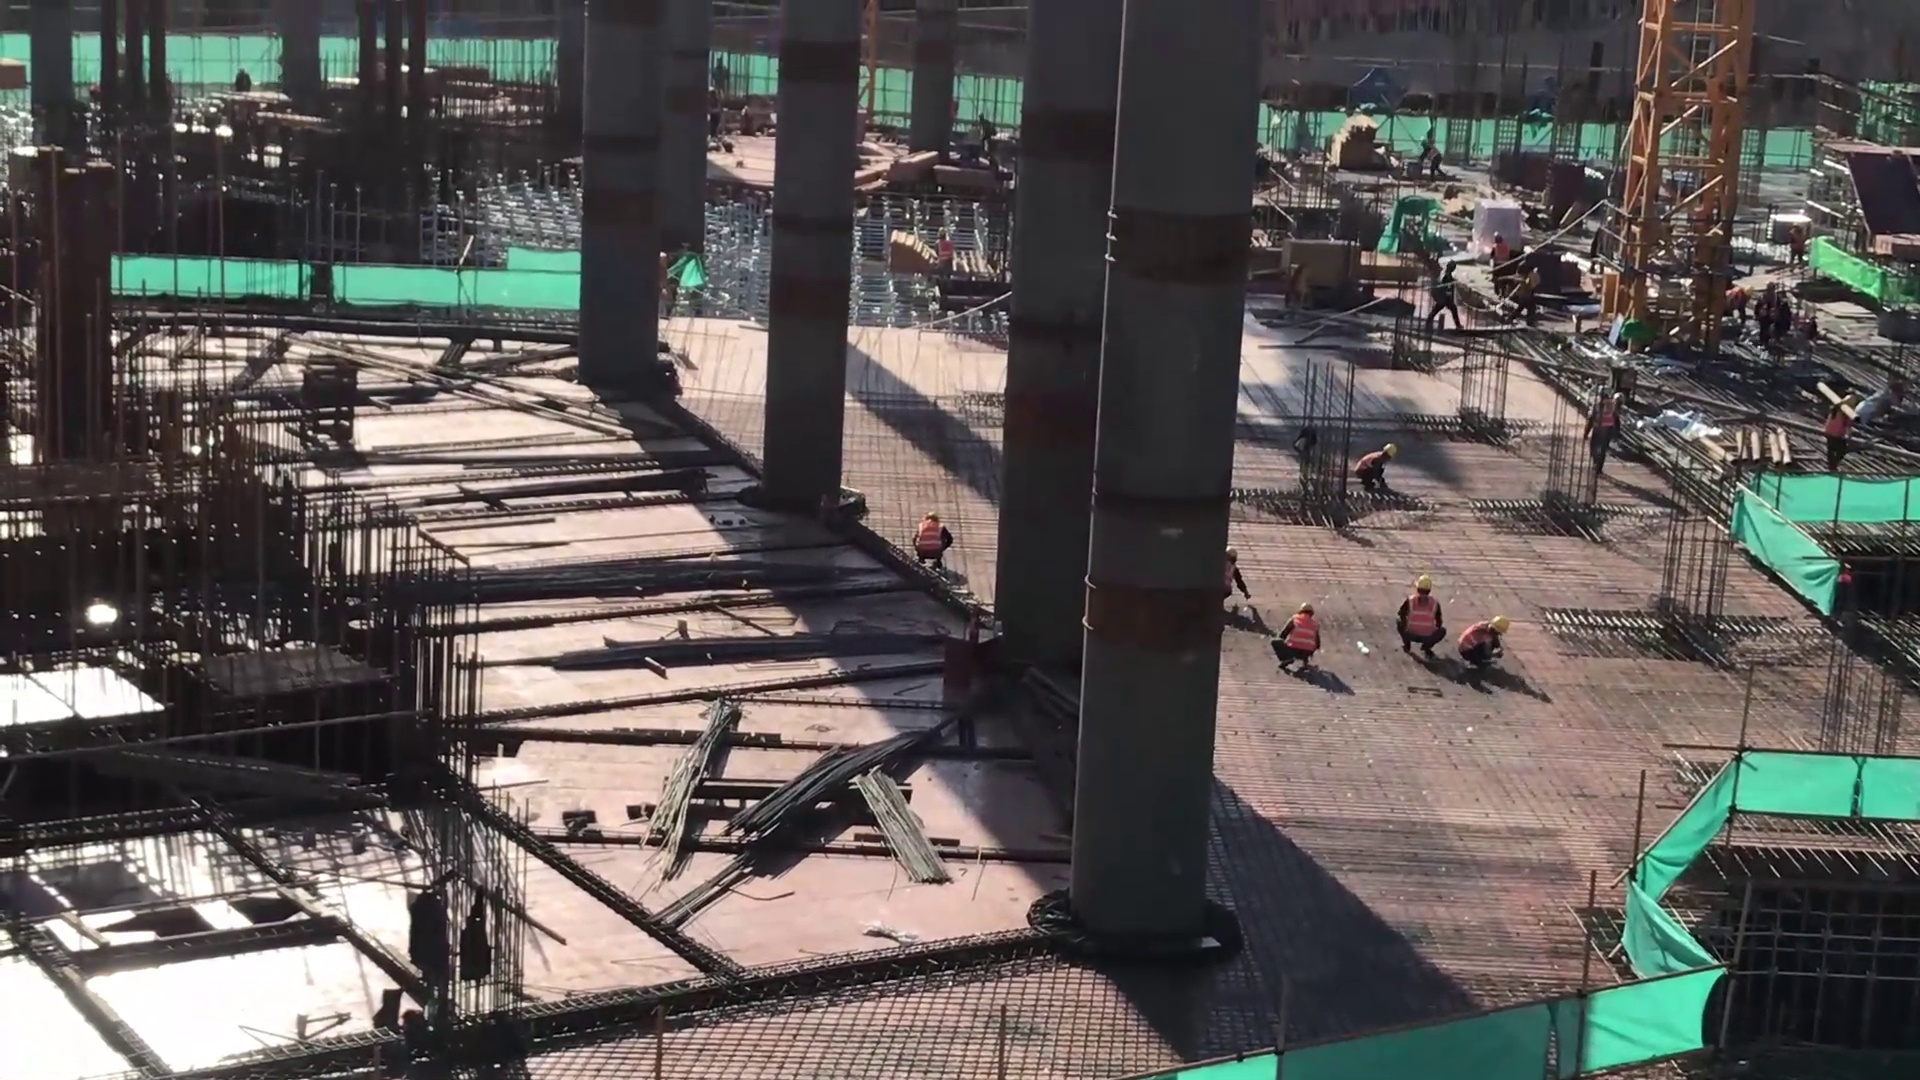helmet: (1489, 614, 1509, 632), (1841, 395, 1857, 409), (1415, 576, 1432, 588), (1298, 602, 1313, 615), (1226, 546, 1238, 558), (1385, 444, 1397, 454), (924, 511, 938, 520), (937, 227, 948, 234)
person: (1393, 565, 1442, 661), (902, 500, 961, 577), (1815, 396, 1866, 484), (1454, 604, 1512, 676), (1585, 380, 1621, 485), (1279, 596, 1320, 685), (1350, 438, 1404, 500), (1425, 254, 1466, 331), (1221, 543, 1251, 616), (1413, 138, 1451, 186), (932, 229, 957, 288), (1785, 226, 1811, 279), (1727, 274, 1751, 329), (1483, 224, 1505, 284)
rebar: (738, 731, 939, 865), (665, 700, 739, 888), (855, 766, 956, 887)
vest: (1460, 619, 1496, 655), (1407, 596, 1436, 638), (1291, 614, 1320, 651), (918, 522, 943, 550), (1357, 452, 1387, 474)
